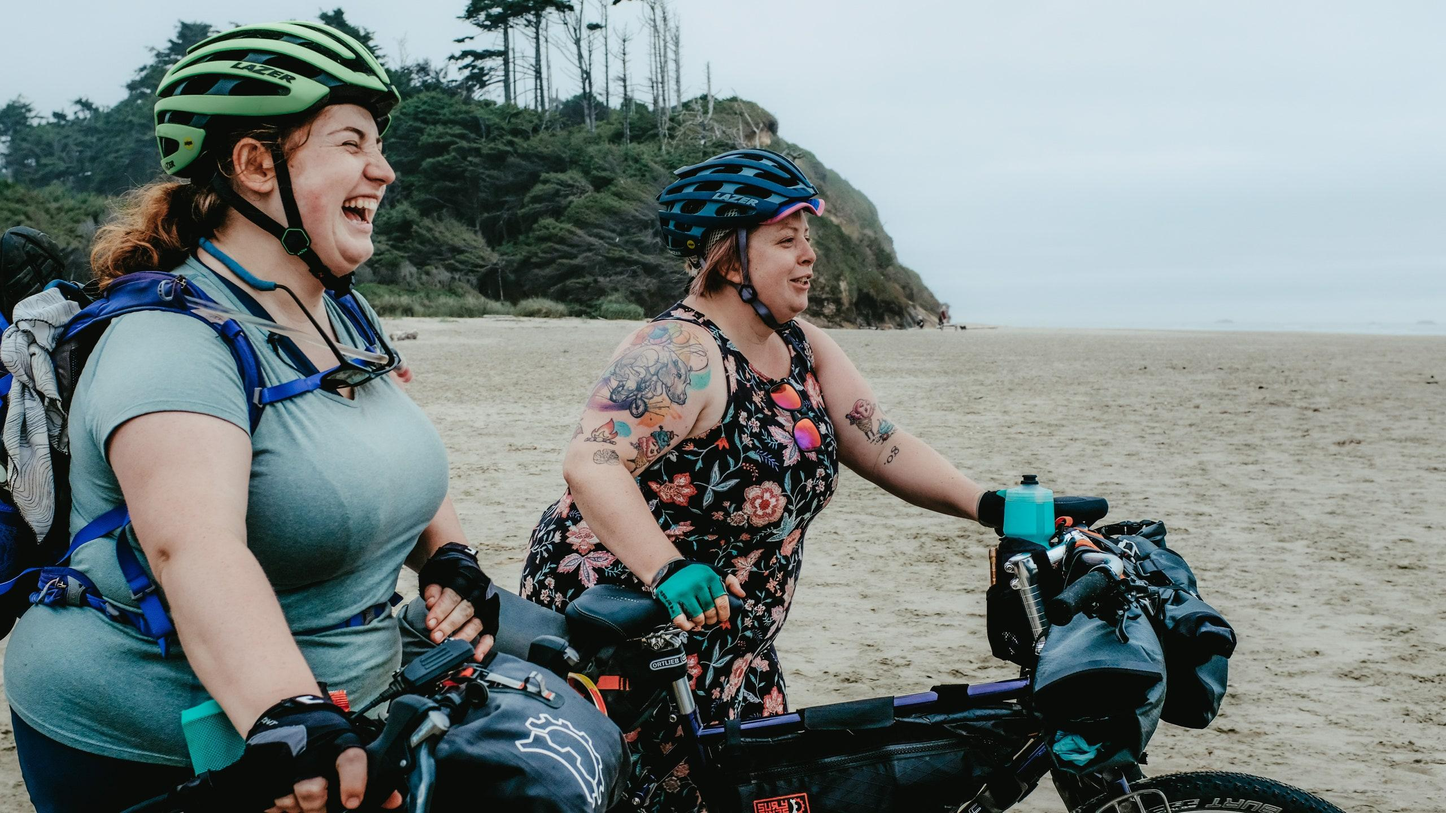helmet: (145, 23, 429, 200), (648, 141, 859, 265)
